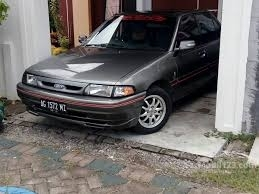plate: (40, 98, 66, 112)
